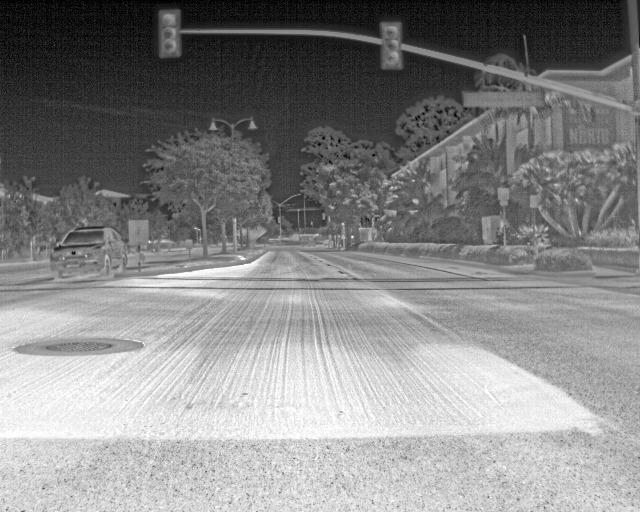car: (50, 226, 127, 278), (300, 236, 316, 247), (141, 244, 157, 252), (314, 237, 324, 244), (210, 241, 218, 247)
light: (161, 12, 179, 54), (384, 24, 398, 66), (322, 213, 325, 219), (278, 217, 280, 223)
sign: (462, 92, 538, 105), (129, 221, 148, 246), (498, 187, 510, 200), (530, 195, 539, 207), (500, 200, 508, 206), (186, 240, 192, 248)
